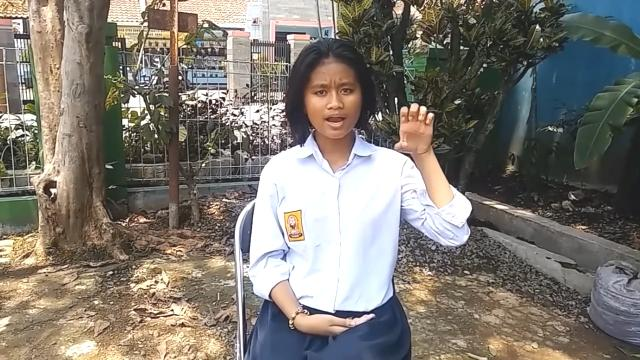E: (392, 102, 433, 154)
